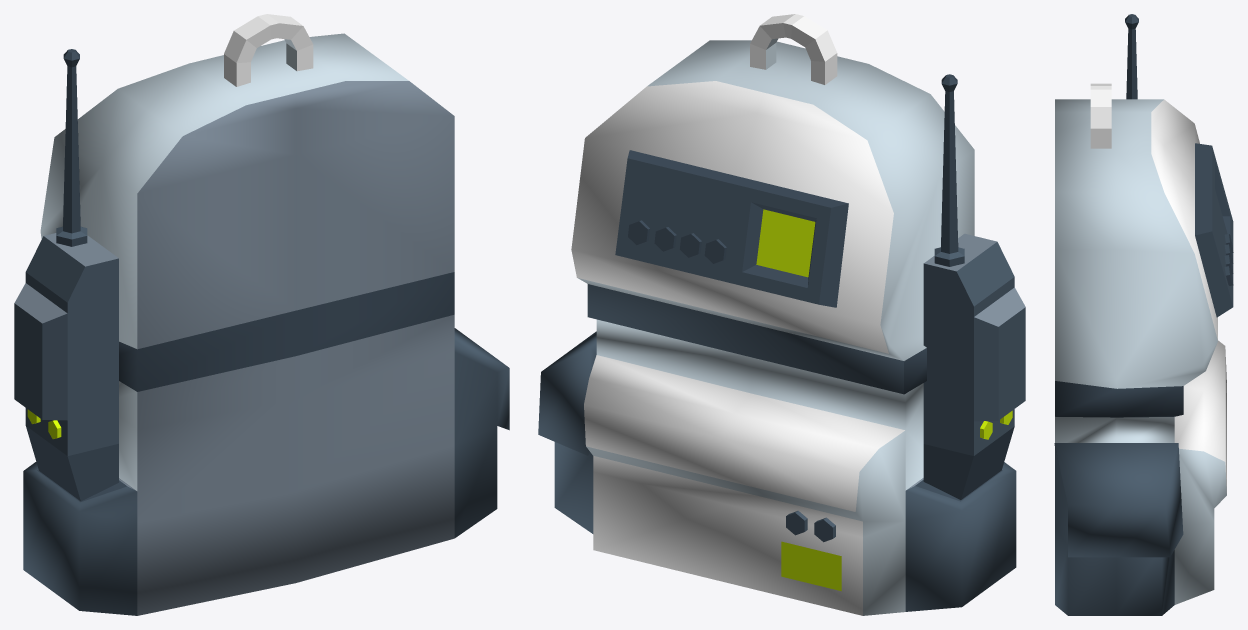
File: astroBackpack.glb
3 views of the same model, side by side, from view 1: azimuth 30°, elevation 25°; view 2: azimuth 150°, elevation 25°; view 3: azimuth 270°, elevation 25° (orthographic). The views are drawn at different scales.
Parts seen in each view (by area): view 1: astroBackpack; view 2: astroBackpack; view 3: astroBackpack.
Part boxes in pixels (x1=…): astroBackpack: x1=14, y1=14, x2=509, y2=615; astroBackpack: x1=538, y1=14, x2=1025, y2=615; astroBackpack: x1=1054, y1=14, x2=1233, y2=615.
Bounding box in the file's own units: 0.983 × 1.13 × 0.3998.
